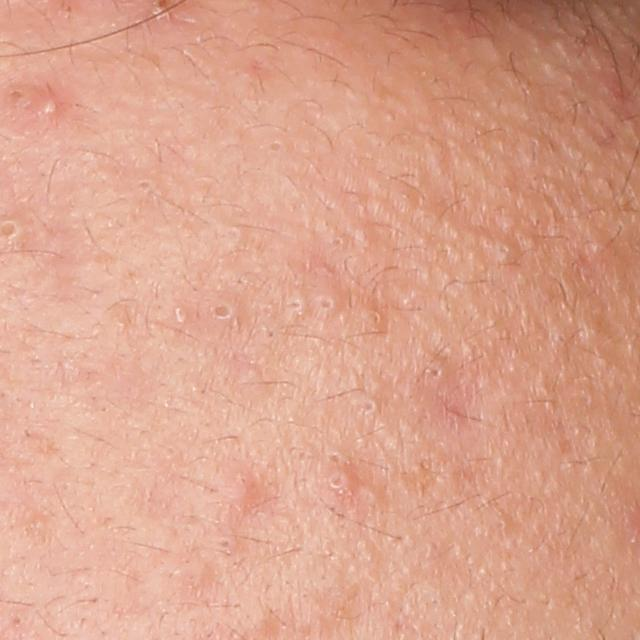comedo: (311, 291, 341, 316), (494, 238, 517, 262), (172, 306, 193, 328), (219, 533, 231, 550)
